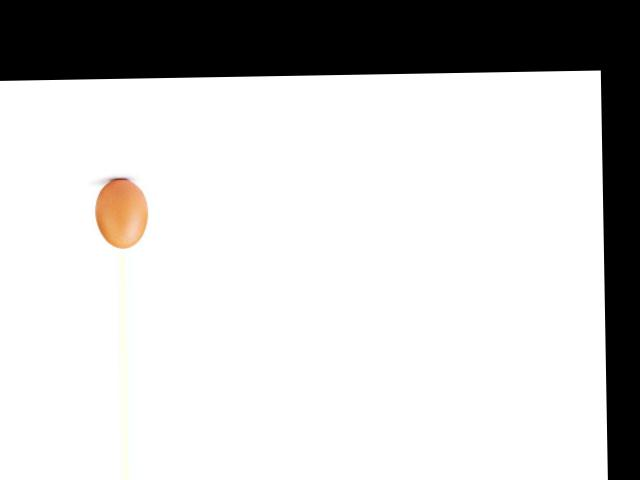egg: (95, 178, 147, 248)
